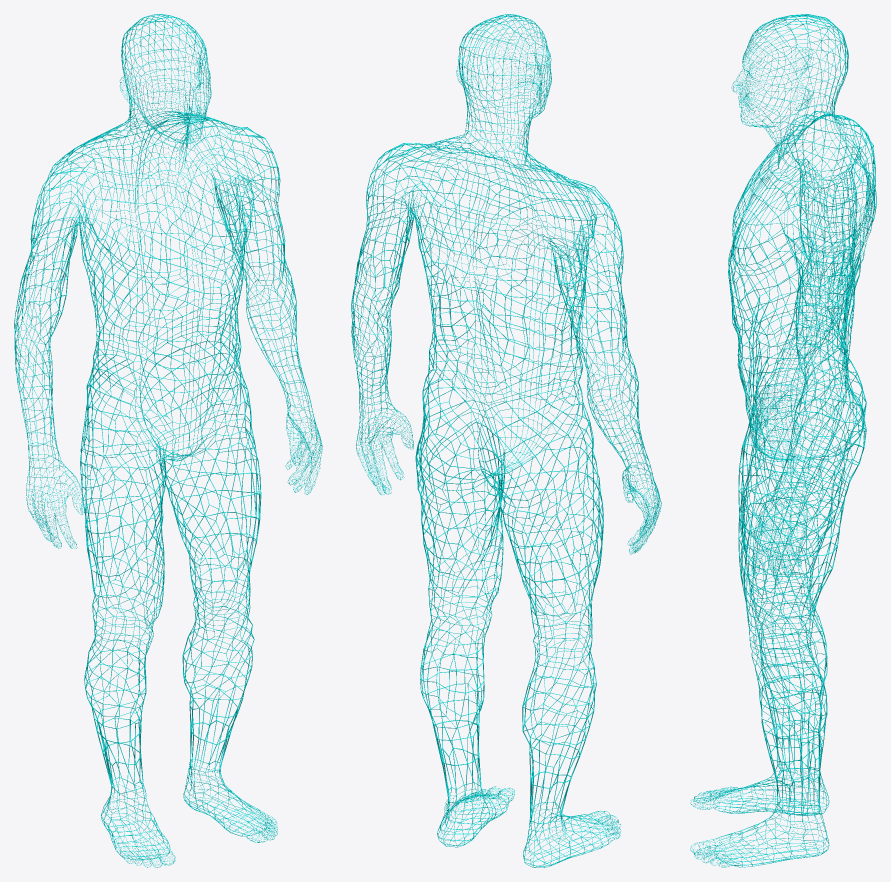
File: Wireframe_M_Blue.glb
3 views of the same model, side by side, from view 1: azimuth 30°, elevation 25°; view 2: azimuth 150°, elevation 25°; view 3: azimuth 270°, elevation 25° (orthographic). The views are drawn at different scales.
Parts seen in each view (by area): view 1: Object_7_n3d; view 2: Object_7_n3d; view 3: Object_7_n3d.
Part boxes in pixels (left/top/right/bottom): Object_7_n3d: left=14, top=14, right=322, bottom=867; Object_7_n3d: left=351, top=14, right=661, bottom=867; Object_7_n3d: left=690, top=14, right=876, bottom=867.
Bounding box in the file's own units: 6.65 × 17.74 × 3.68.
